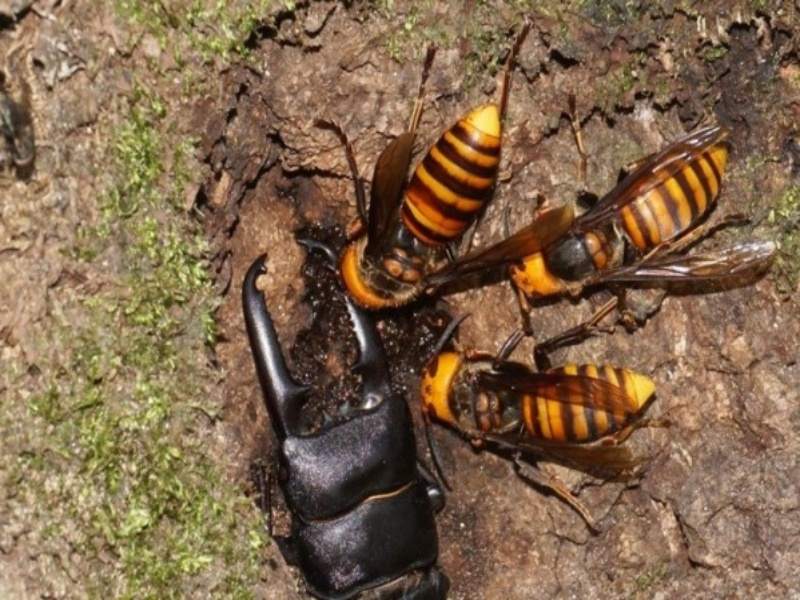asian_giant_hornet: (509, 138, 732, 304), (338, 100, 508, 312), (421, 345, 658, 480)
